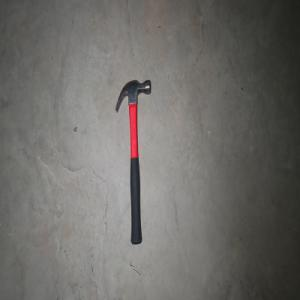Hammer: (114, 79, 151, 245)
